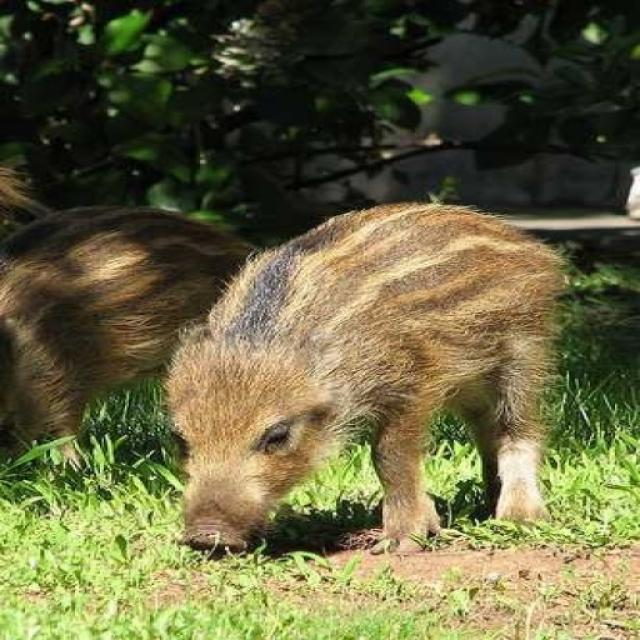pig: (192, 170, 591, 612), (0, 125, 222, 487)
